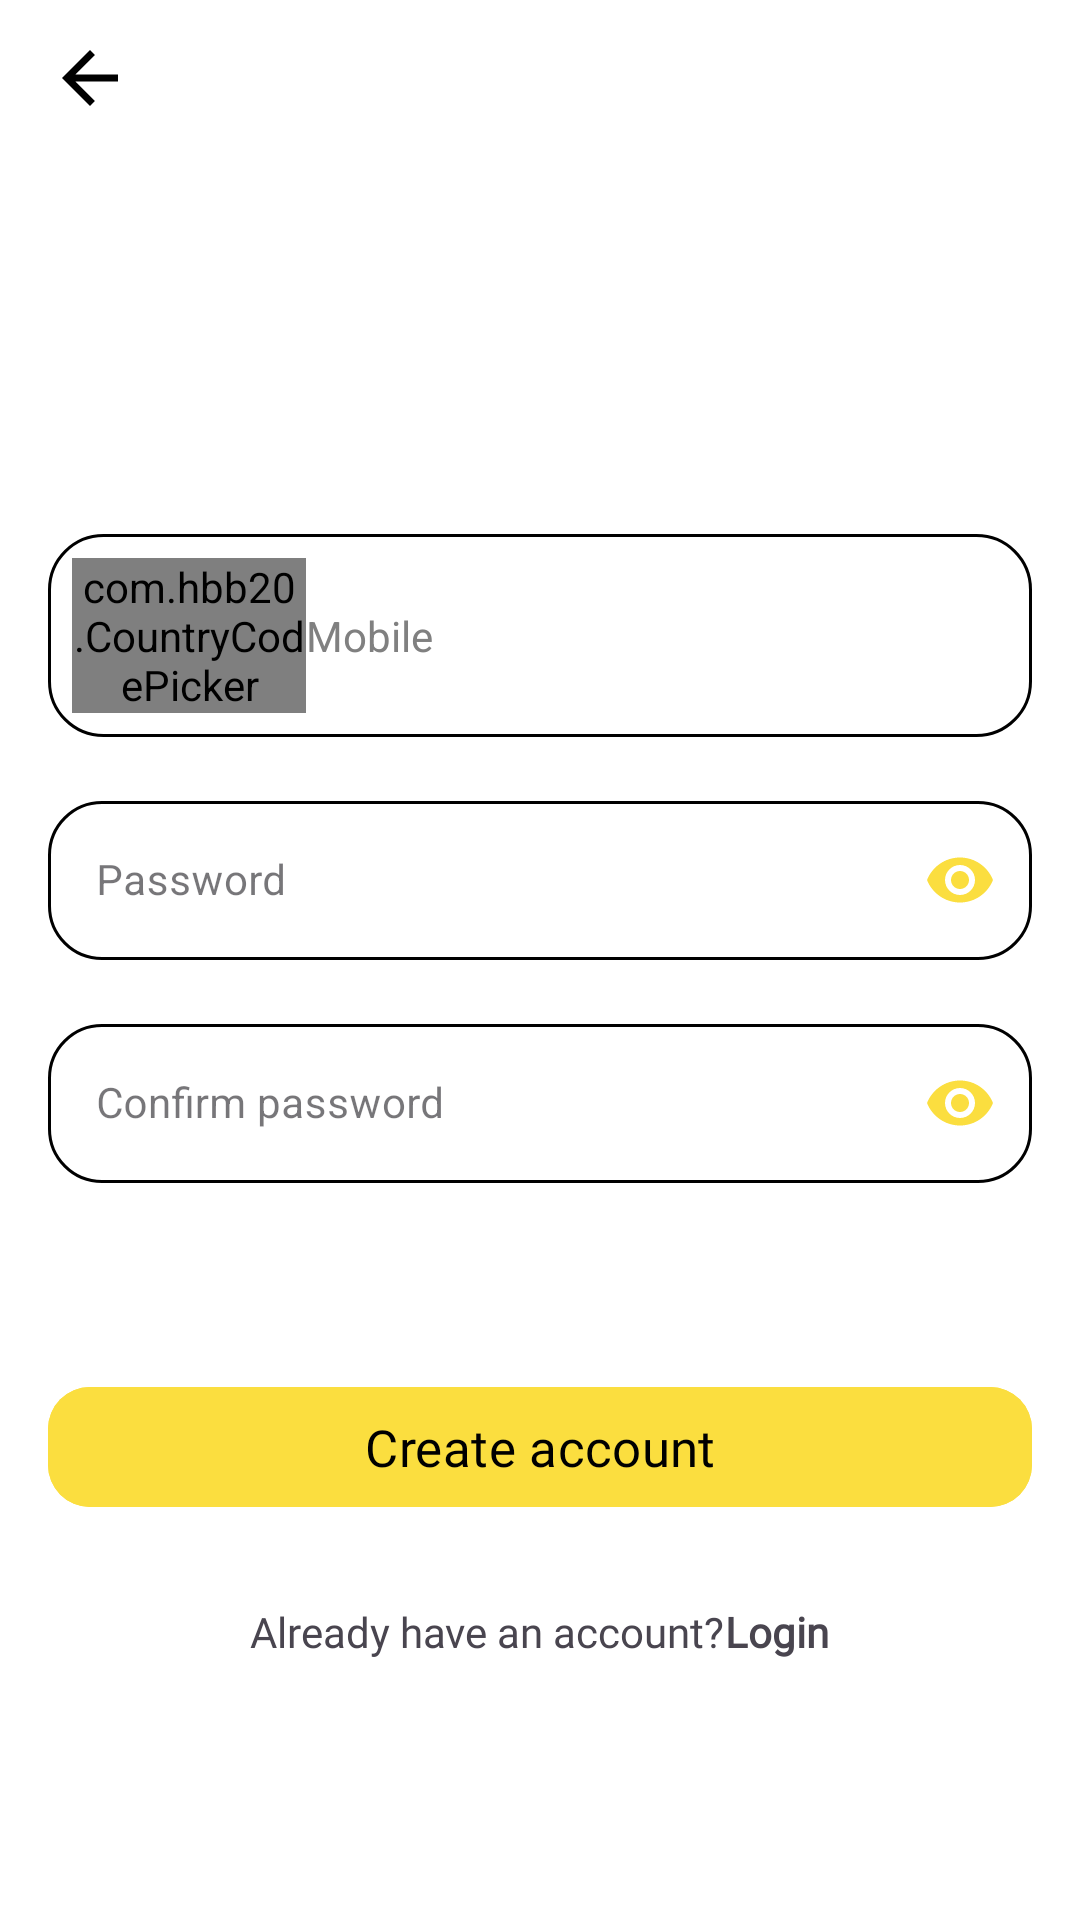

Named icons in this screenshot (1080*1920) and their bounding boxes, detection(x1, y1, x2, y2):
arrow back: detection(62, 50, 118, 106)
